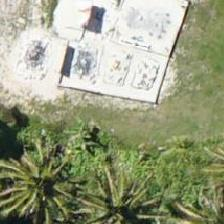coconut_tree: (0, 147, 74, 223), (67, 167, 157, 223)
